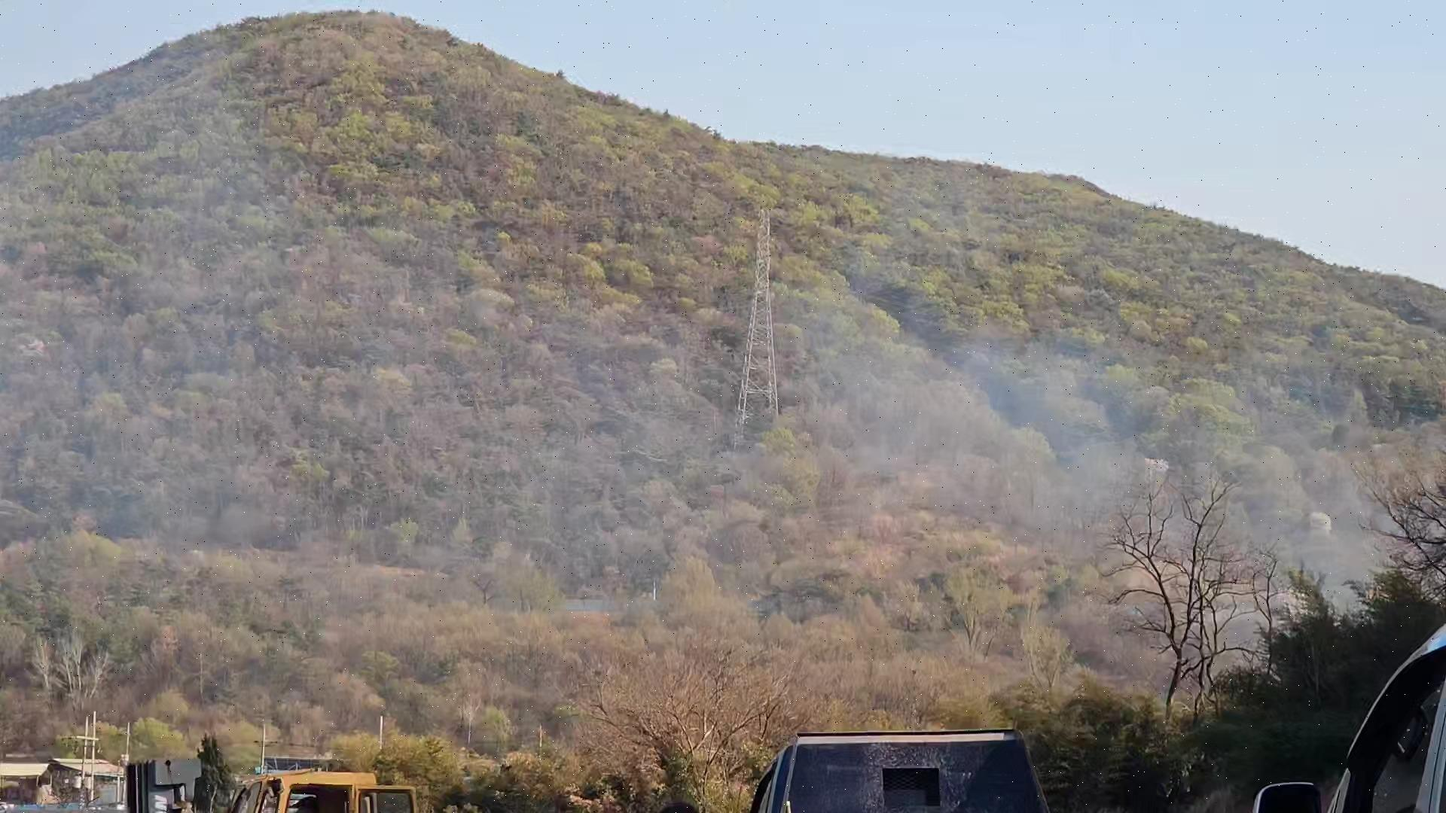smoke: (525, 259, 1432, 650)
